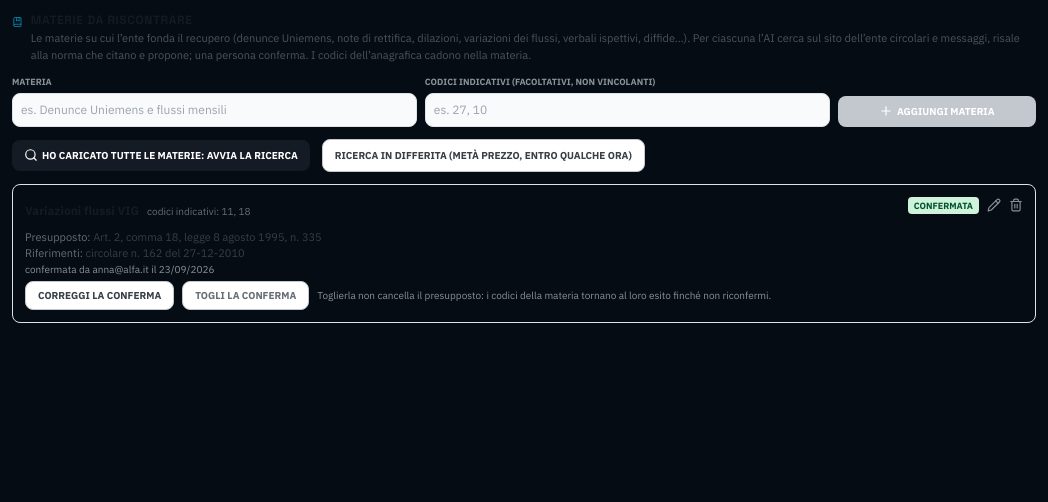
Scenario: materie: la conferma si toglie e si corregge › correggere la conferma riapre i due campi e salva il testo corretto
Click the button "Correggi la conferma" at [100, 295], box [25, 280, 174, 310]
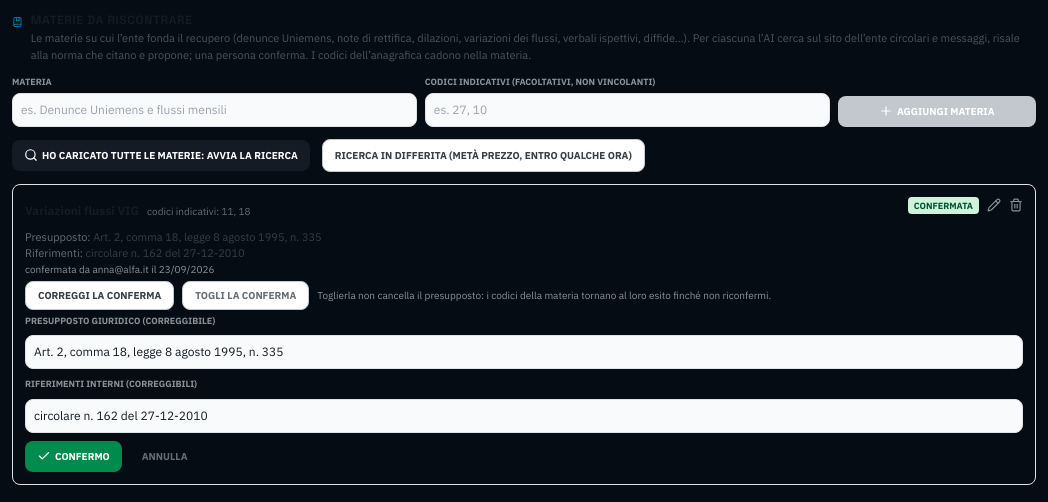
Replace the text in the 1st field showing "Art. 2, comma 18, legge 8 agosto 1995, n. 335" with "Art. 3, comma 1, legge 8 agosto 1995, n. 335" at [524, 352], box [25, 335, 1023, 369]
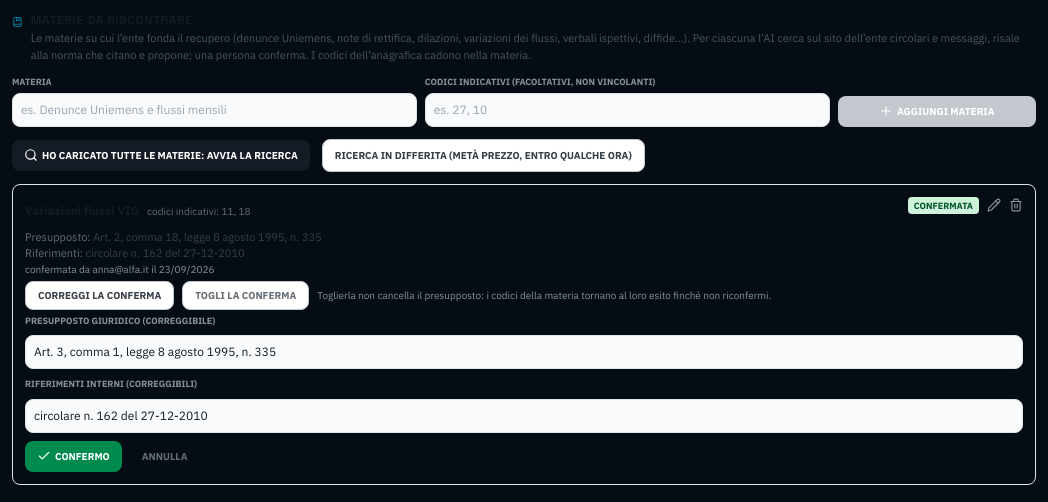
Click the button "Confermo" at [73, 456], box [25, 440, 122, 472]
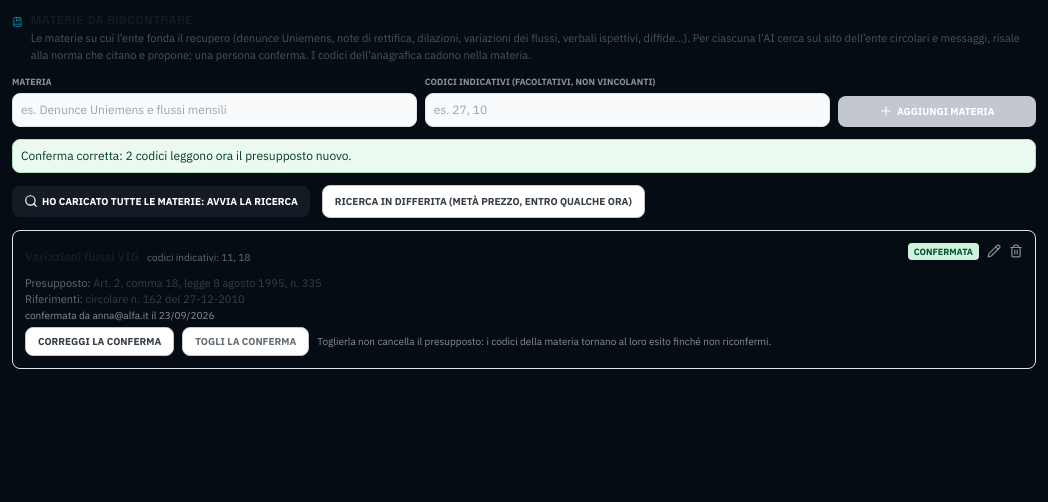
Check: the text "Conferma corretta: 2 codici leggono ora il presupposto nuovo" is shown, box [21, 148, 352, 162]
